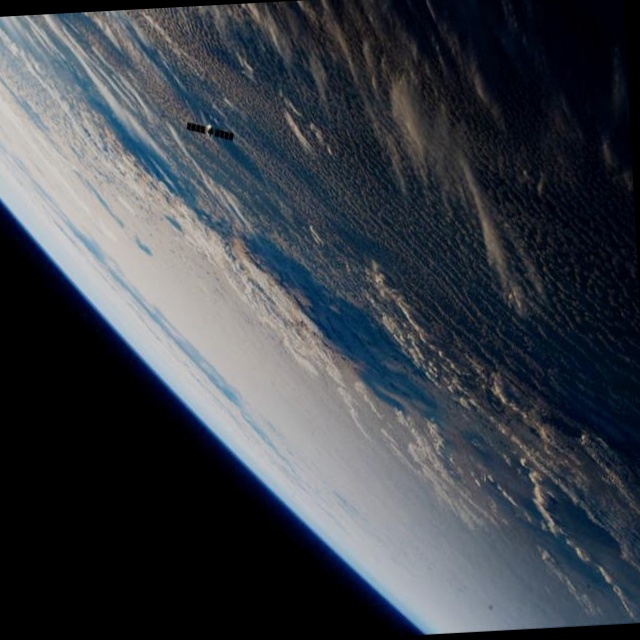satellite: (181, 107, 254, 151)
